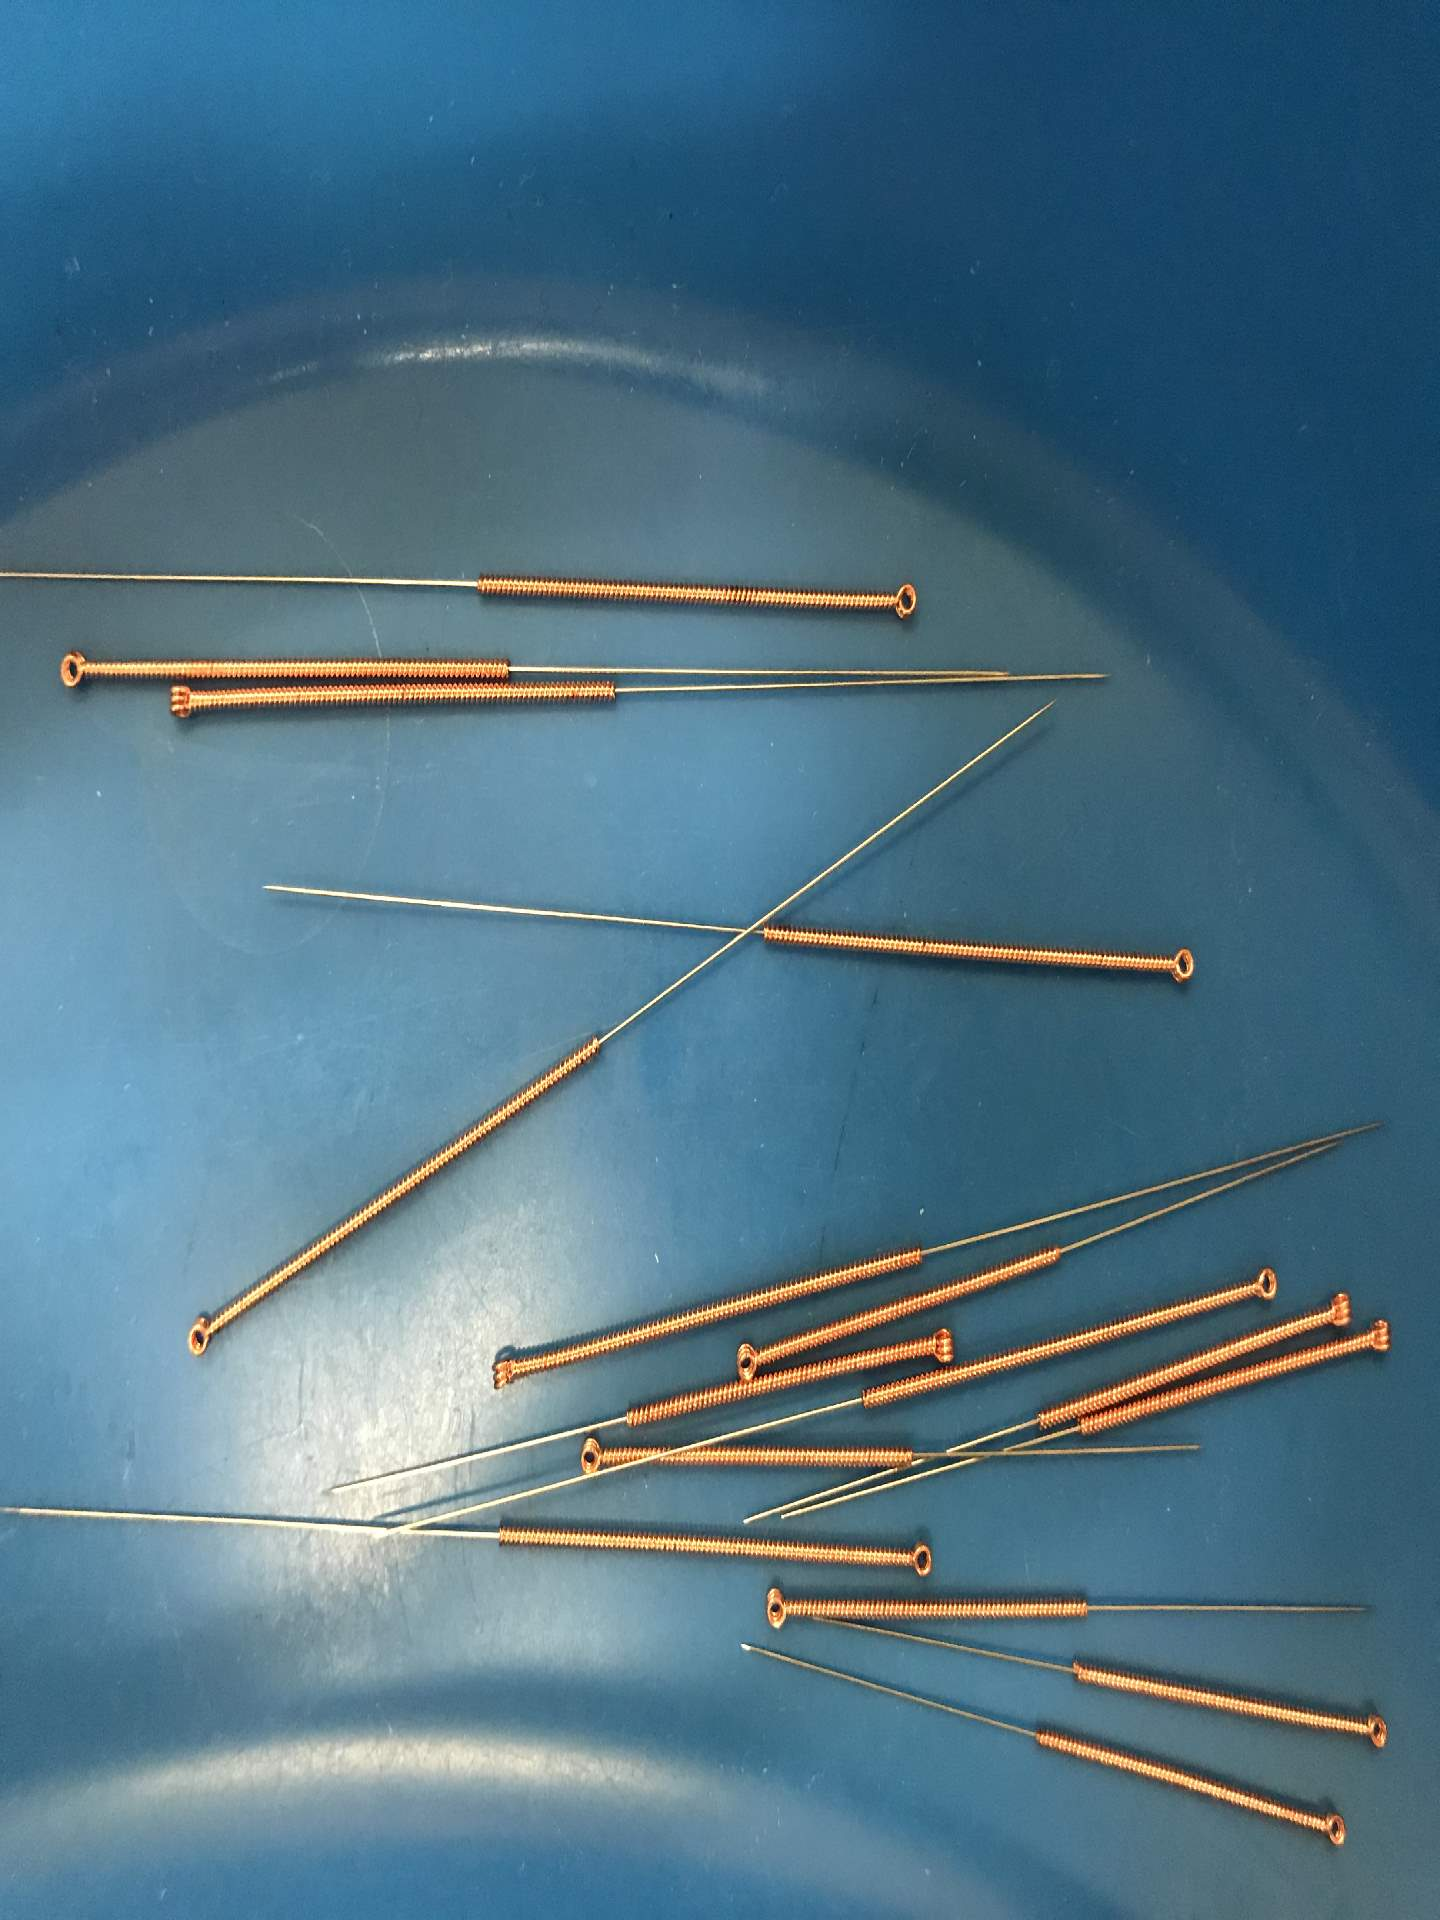needle: (864, 570, 932, 633), (1148, 933, 1212, 999), (33, 636, 101, 697), (1305, 1795, 1361, 1860), (172, 1305, 225, 1371), (148, 679, 210, 732), (892, 1528, 945, 1589), (1349, 1702, 1401, 1764), (478, 1339, 529, 1400), (1237, 1256, 1290, 1314), (750, 1578, 800, 1637), (1355, 1308, 1404, 1367), (911, 1318, 964, 1370), (566, 1432, 613, 1483), (1314, 1284, 1361, 1333), (726, 1330, 767, 1386)
